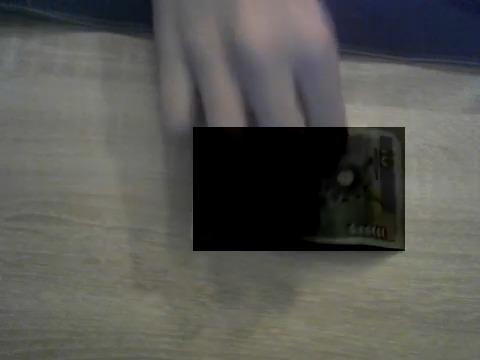10leva: (193, 127, 405, 251)
